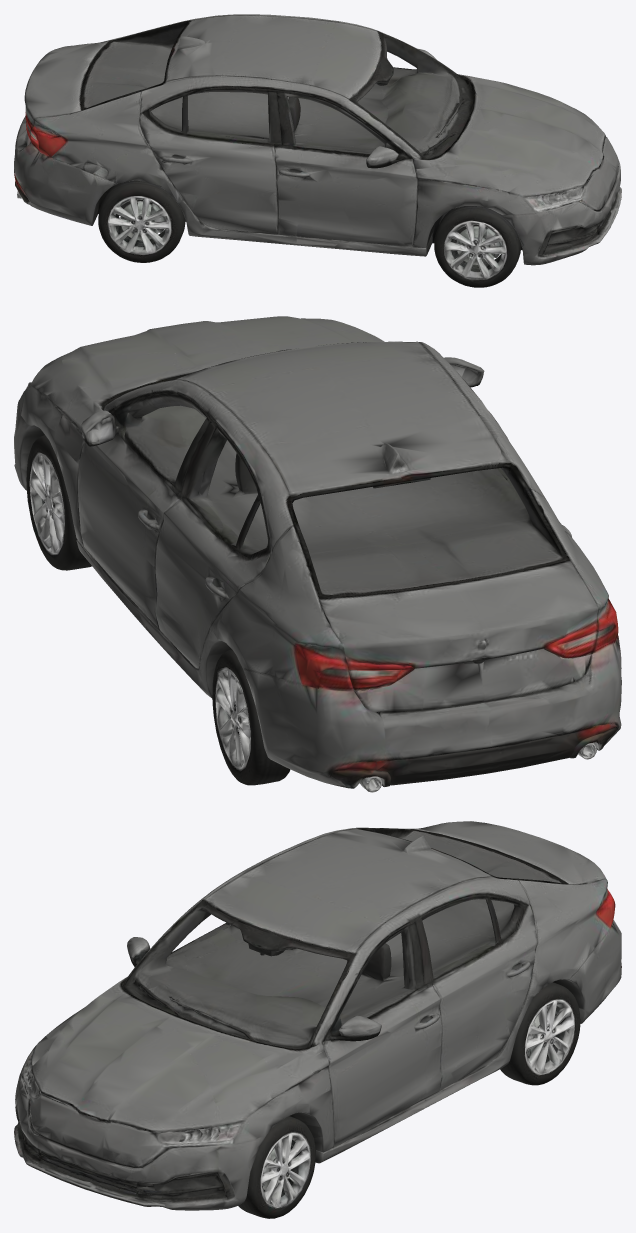
File: sedan.glb
3 views of the same model, one above another, from view 1: azimuth 30°, elevation 25°; view 2: azimuth 150°, elevation 25°; view 3: azimuth 270°, elevation 25° (orthographic). The views are drawn at different scales.
Parts seen in each view (by area): view 1: tripo_node_67b5a1d3-acdb-4f1c-8914-45117588e24a; view 2: tripo_node_67b5a1d3-acdb-4f1c-8914-45117588e24a; view 3: tripo_node_67b5a1d3-acdb-4f1c-8914-45117588e24a.
Boxes of the visible parts, <box> form: tripo_node_67b5a1d3-acdb-4f1c-8914-45117588e24a: <box>14,14,621,287</box>; tripo_node_67b5a1d3-acdb-4f1c-8914-45117588e24a: <box>14,316,621,792</box>; tripo_node_67b5a1d3-acdb-4f1c-8914-45117588e24a: <box>14,821,621,1218</box>.
Size of the model in its own units: 0.8854 by 0.3227 by 0.8126.
1 material, 1 textured.
